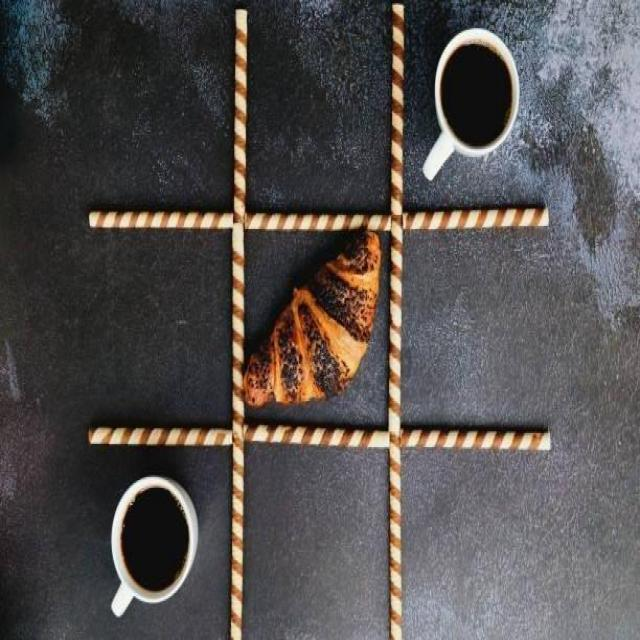cup-handle: (421, 25, 521, 184), (110, 474, 198, 620)
